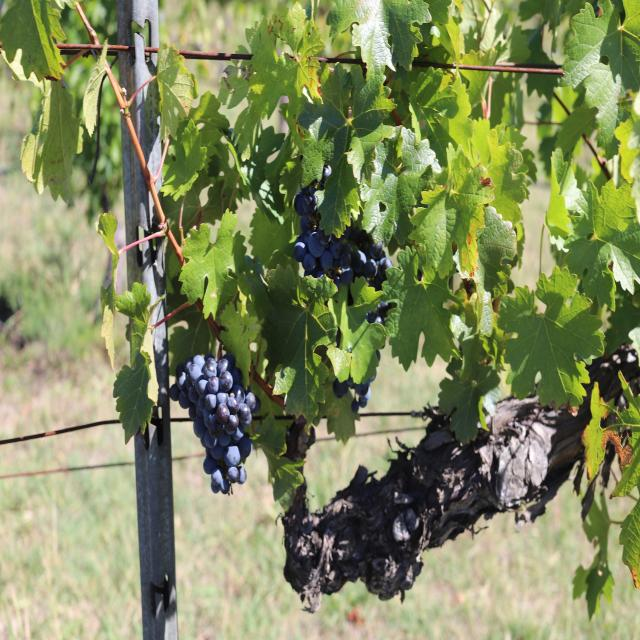grapes: (169, 353, 260, 493), (293, 165, 392, 290)
